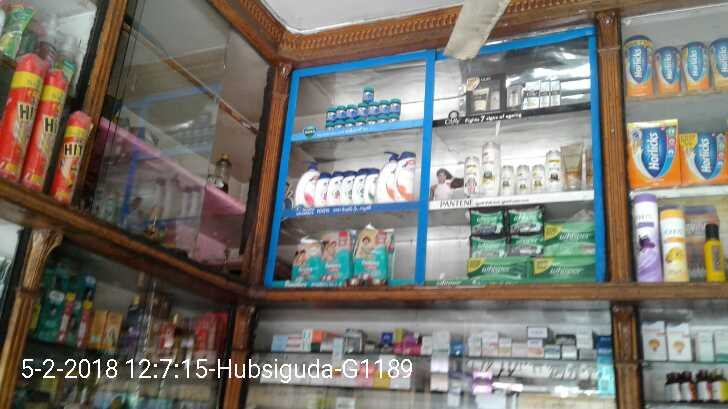vicks: (324, 83, 406, 134)
